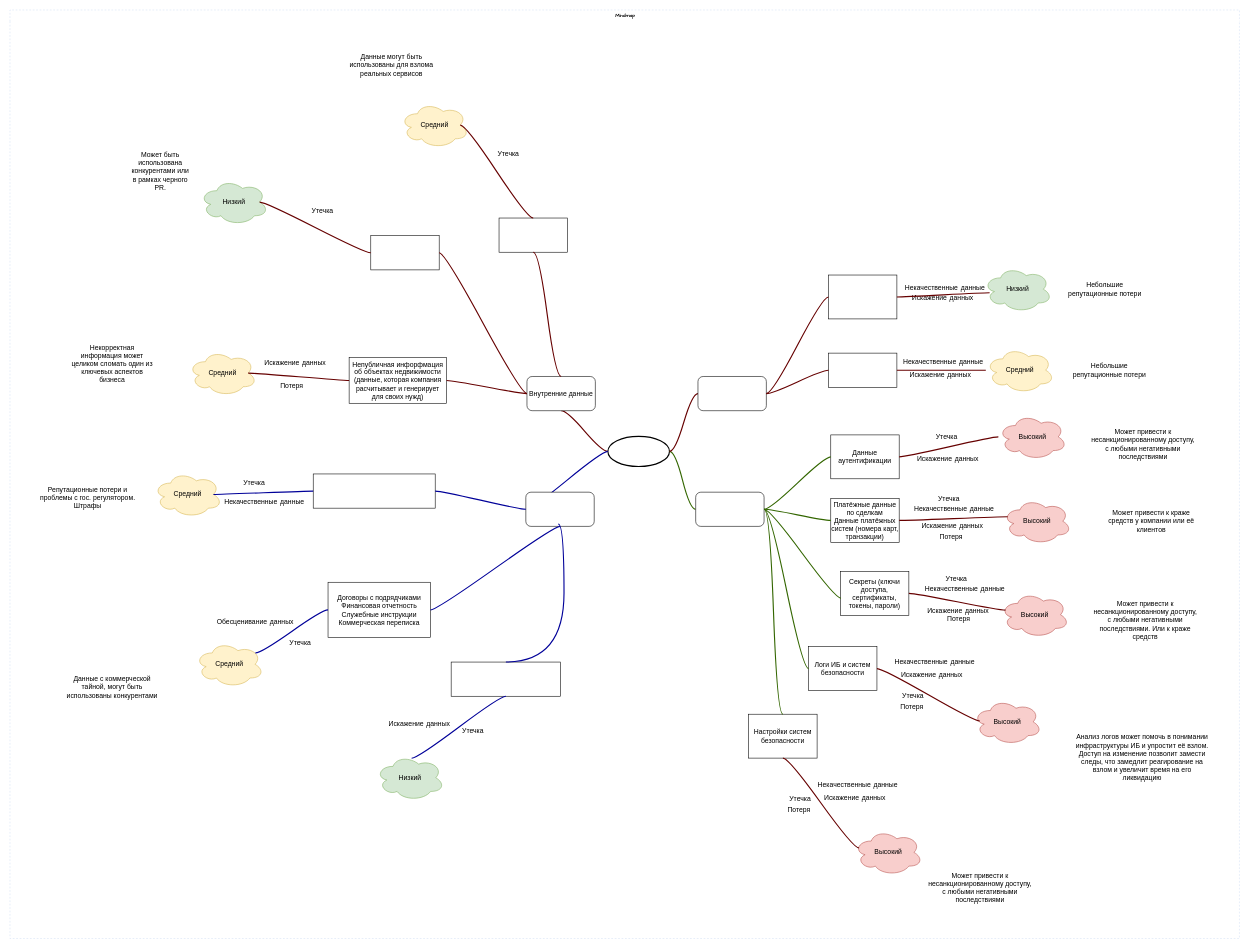
Some shapes in this 1249 by 948 pixel diagram are drawn without their labels. Here are the shapes that lost their labels. From the top down, the centre of each, then its label:
the point at 404,252: Отчеты Планы
the point at 532,234: Тестовые данные Исходные коды Логи бизнес-логики
the point at 862,296: - Рекламные данные - Онлайн витрина продаж (недвижимость, объявления, списки)
the point at 862,370: - Контент сервисов для собственников жилья
the point at 731,393: Публичные данные
the point at 638,451: Безопасность данных
the point at 374,490: Данные клиентов (персональные данные)
the point at 559,509: Конфиденциальные данные
the point at 729,509: Секретные данные
the point at 506,678: Данные недвижимости собственников Данные о подключенных услугах
